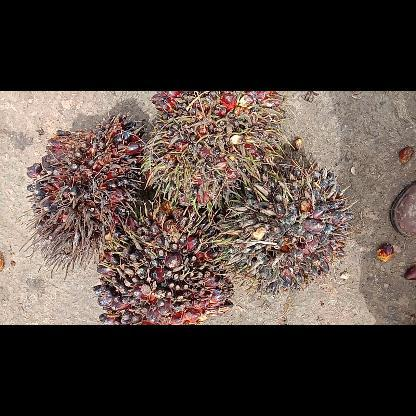TBS abnormal: (218, 146, 352, 294), (145, 92, 279, 222), (22, 114, 140, 256), (90, 212, 235, 324)
